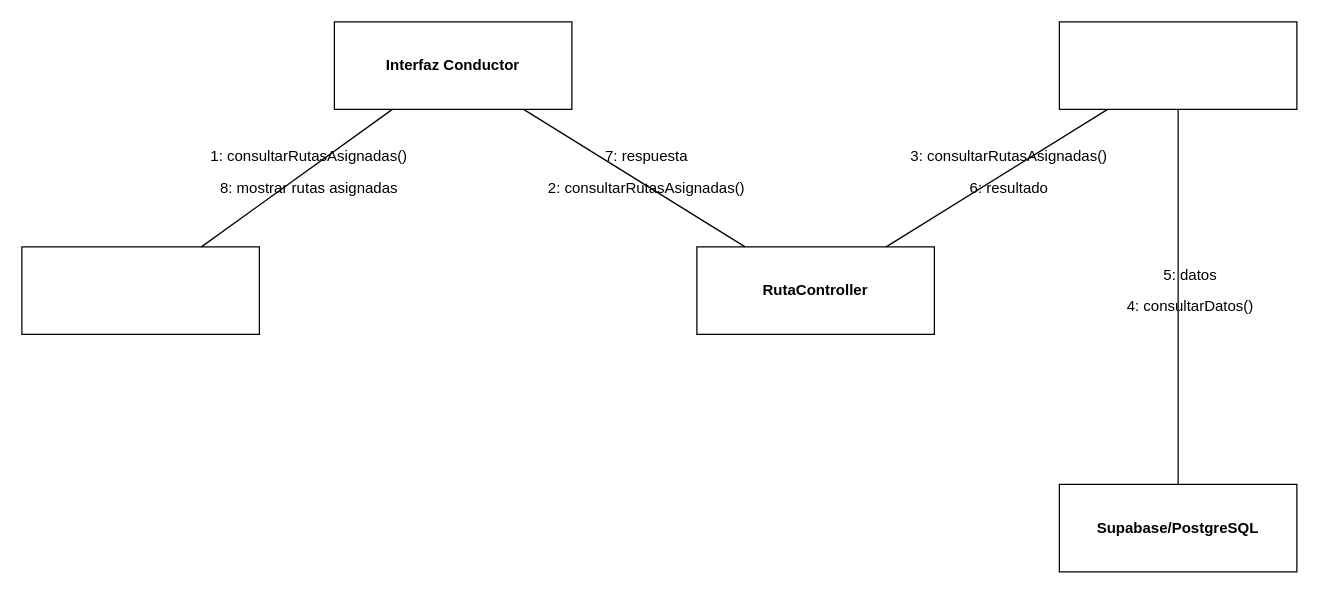
This 1344x594 diagram has some shape labels left out. Here are the shapes that lost their labels. From the top down, the centre of each, then its label:
(1177,65): Ruta
(140,290): Conductor
